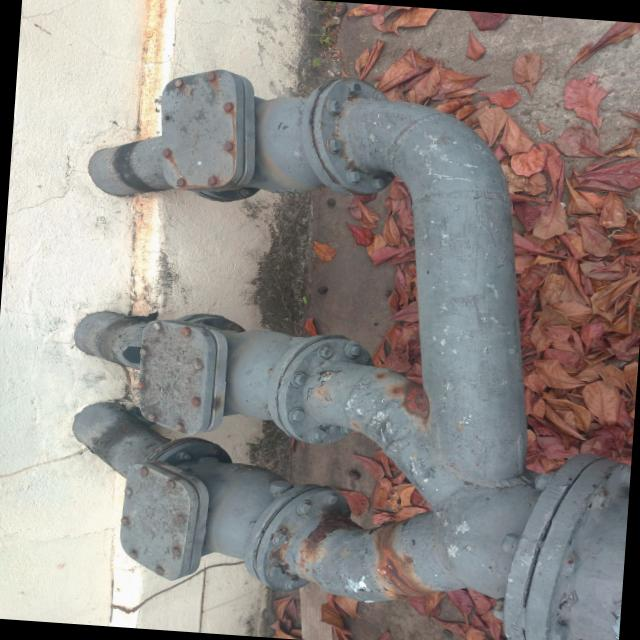gas: (75, 89, 628, 640)
